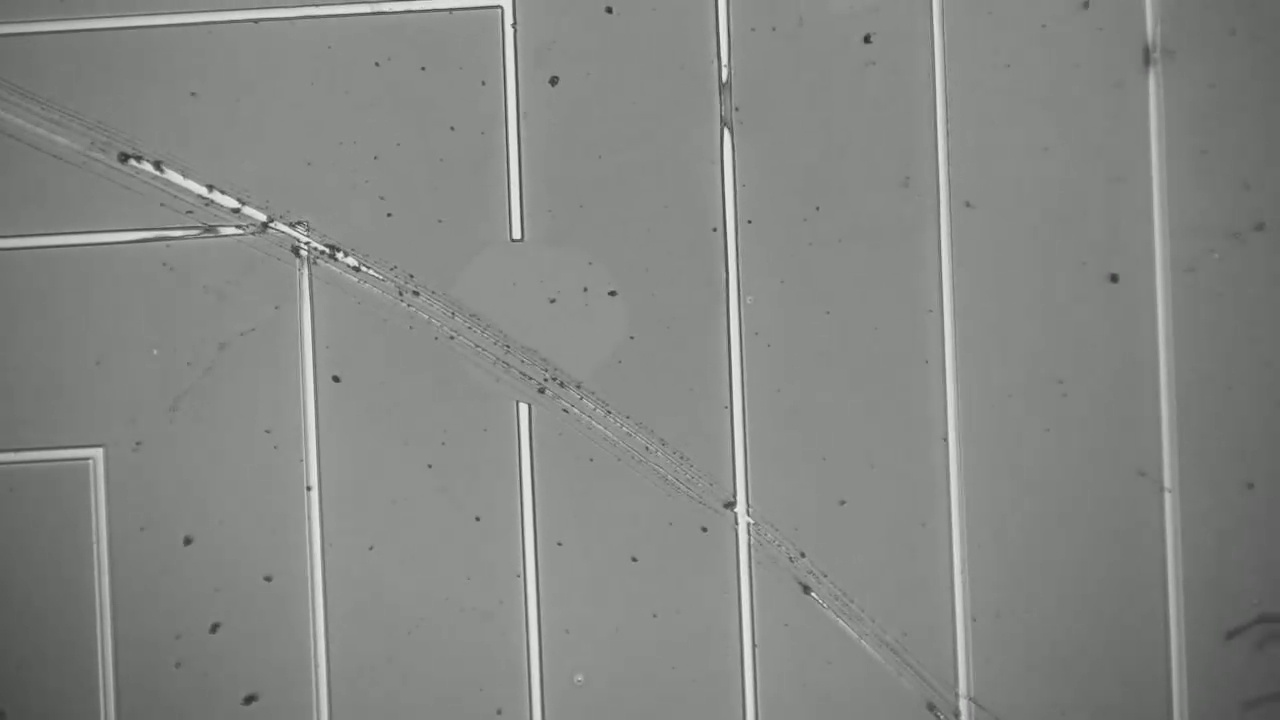gray_line: (706, 54, 745, 151), (1127, 17, 1173, 86)
open: (481, 198, 557, 456)
scratch: (380, 272, 954, 709), (1, 81, 370, 272)
